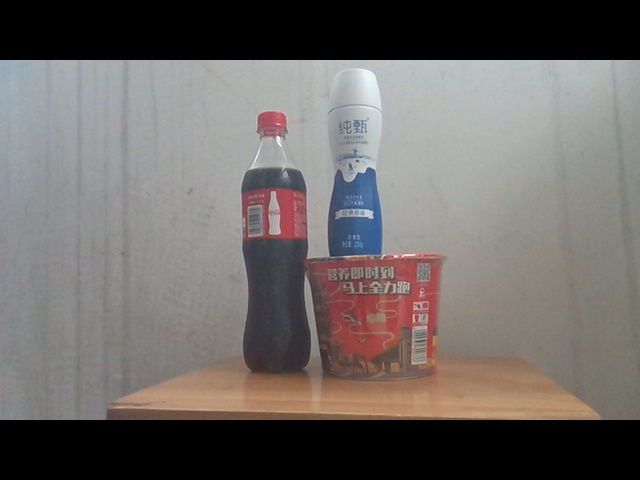cola: (241, 110, 313, 373)
kangshifu: (306, 253, 449, 380)
yogurt: (326, 66, 384, 255)
